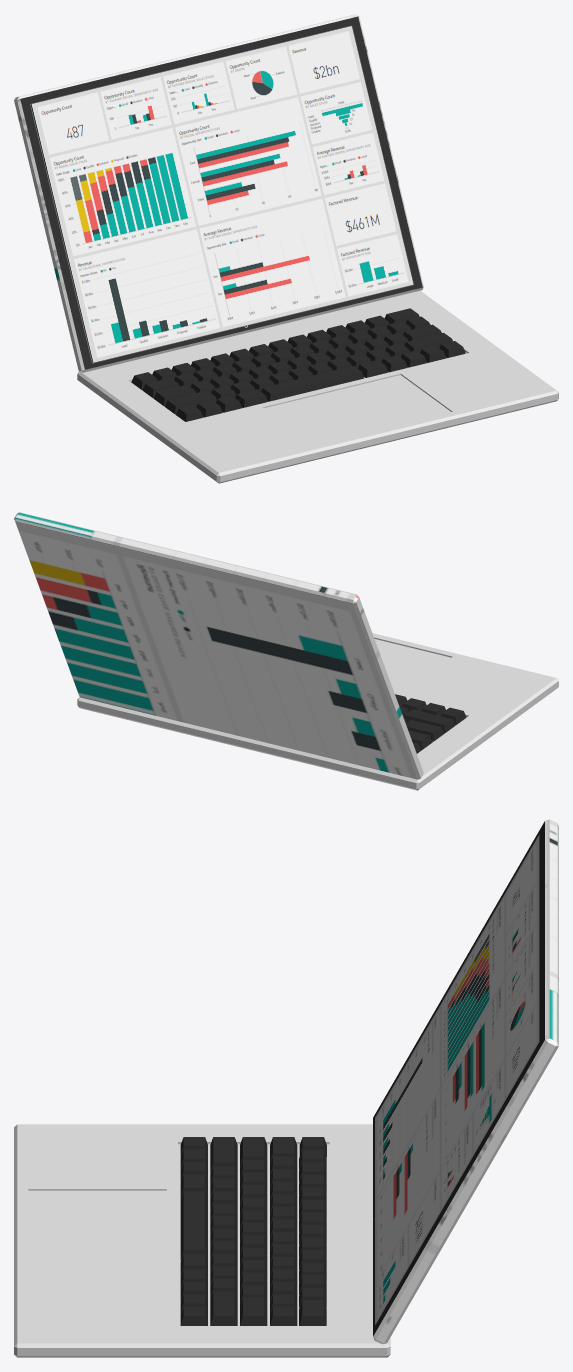
The model's file is laptopscreen.glb.
3 renders of one model, top to bottom at view 1: azimuth 30°, elevation 25°; view 2: azimuth 150°, elevation 25°; view 3: azimuth 270°, elevation 25°, orthographic. The views are drawn at different scales.
Visible parts, largest first — view 1: ScreenImagePlane, Cube.001, 立方体, Cube.002; view 2: Cube.002, Cube.001, 立方体; view 3: Cube.001, ScreenImagePlane, 立方体, Cube.002.
Boxes of the visible parts, left/top/right/bottom form: ScreenImagePlane: left=30, top=25, right=413, bottom=363; Cube.001: left=77, top=290, right=558, bottom=483; 立方体: left=131, top=308, right=465, bottom=421; Cube.002: left=14, top=14, right=423, bottom=372; Cube.002: left=14, top=512, right=423, bottom=779; Cube.001: left=77, top=633, right=558, bottom=790; 立方体: left=395, top=694, right=466, bottom=753; Cube.001: left=14, top=1124, right=390, bottom=1357; ScreenImagePlane: left=375, top=833, right=539, bottom=1325; 立方体: left=180, top=1137, right=326, bottom=1325; Cube.002: left=373, top=819, right=558, bottom=1344.
Bounding box in the file's own units: 2.42 × 1.62 × 2.51.
Materials: 6 (2 with a texture image).
